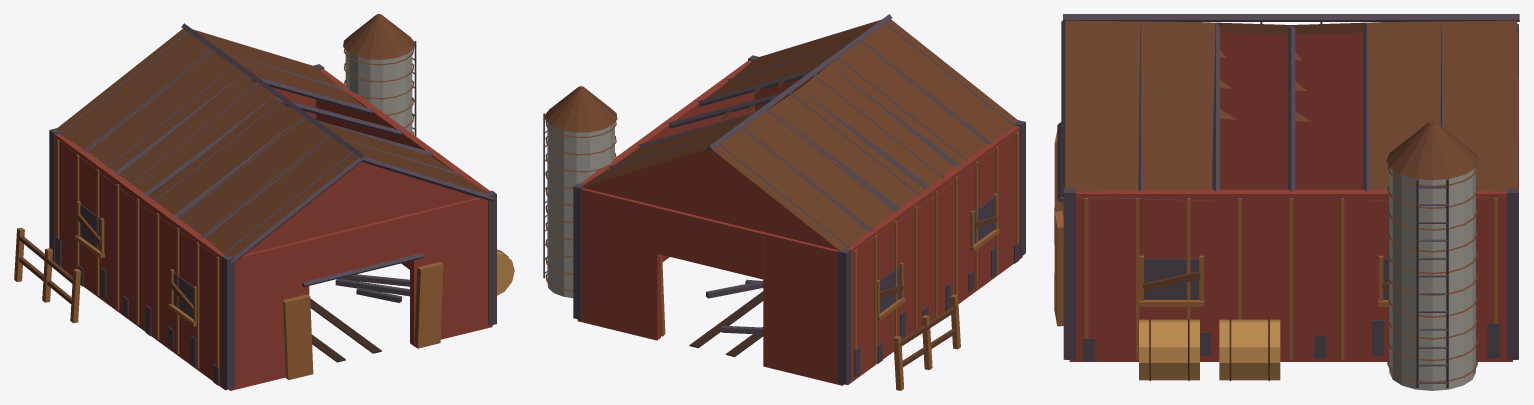
3 renders of one model, left to right at view 1: azimuth 30°, elevation 25°; view 2: azimuth 150°, elevation 25°; view 3: azimuth 270°, elevation 25°, orthographic. The views are drawn at different scales.
Visible parts, largest first — view 1: body; view 2: body; view 3: body.
Part boxes in pixels (x1,y1,x2,y2): body: (14, 14, 514, 390); body: (543, 14, 1025, 390); body: (1054, 14, 1519, 390).
Bounding box in the file's own units: 9.95 × 5.27 × 8.4.
